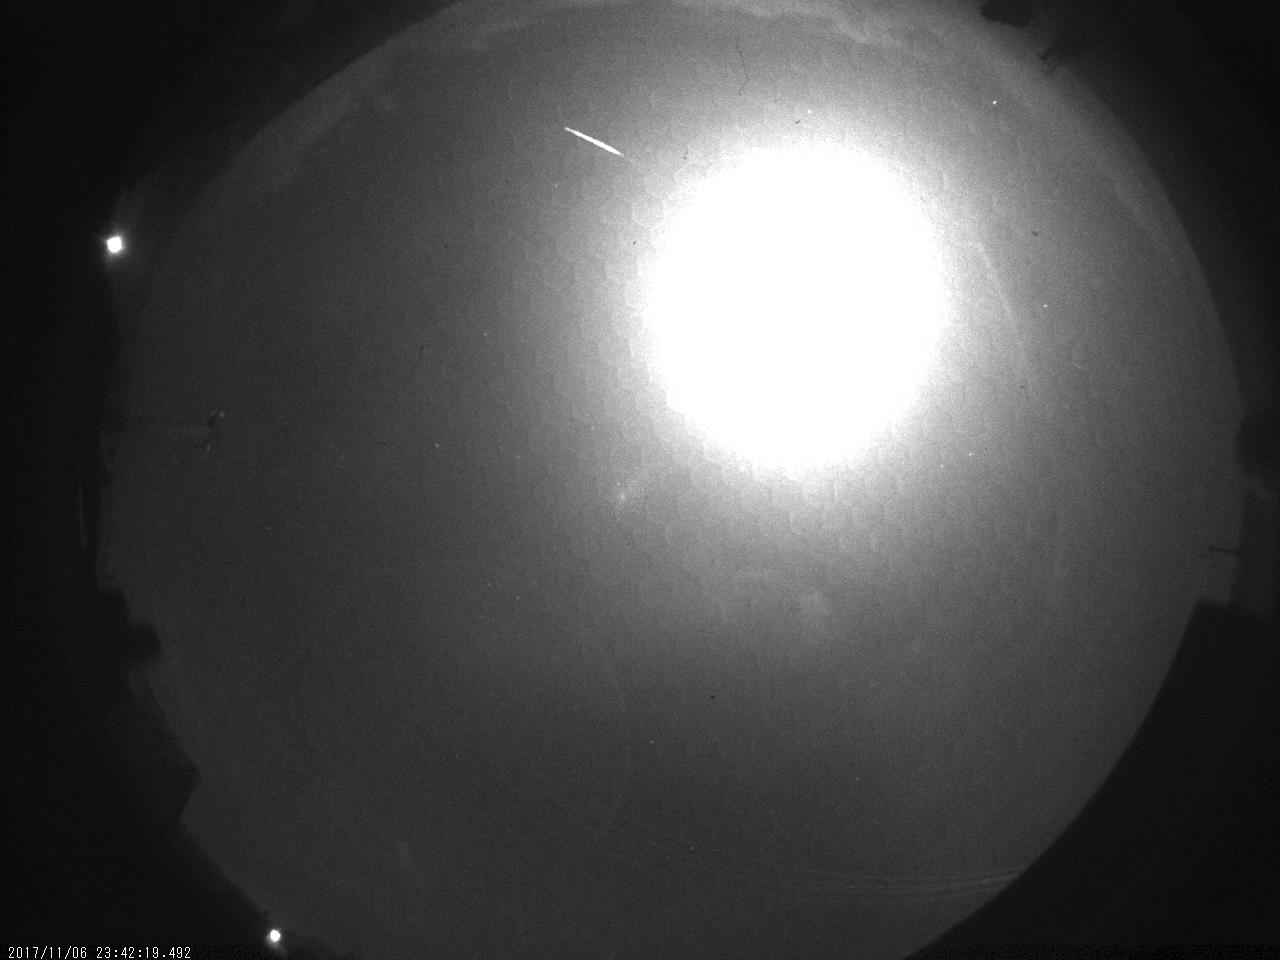meteor: (552, 122, 644, 171)
